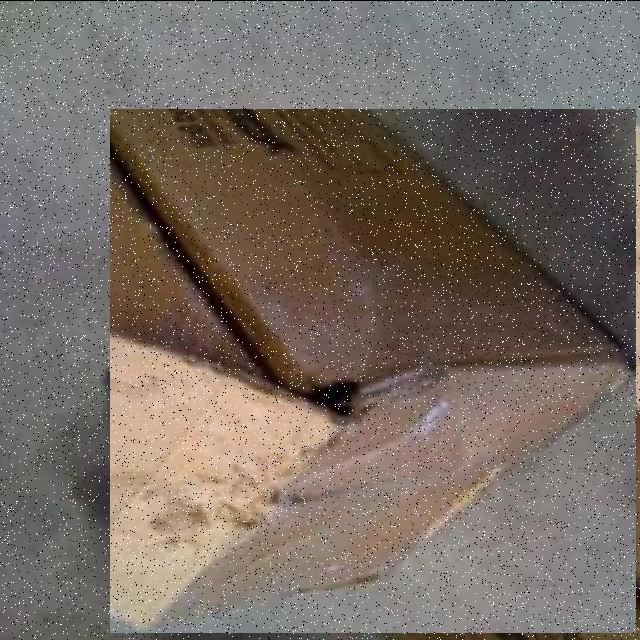defect: (110, 108, 636, 632)
